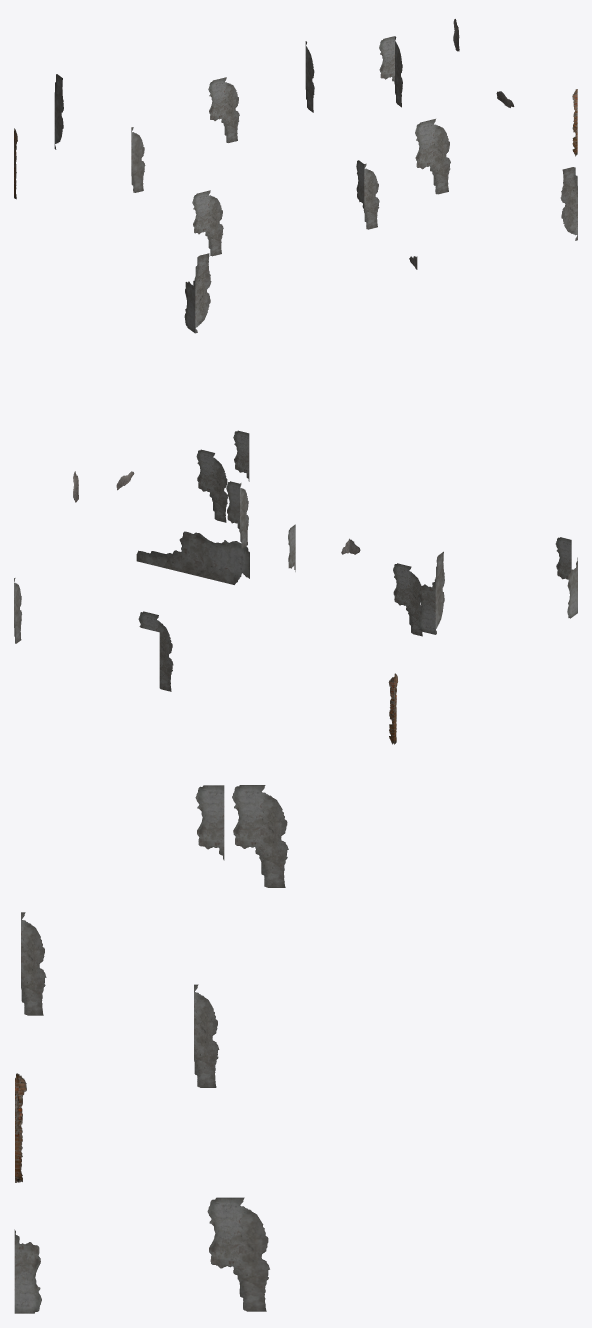
File: BuildingLarge2cDecal01_2048.glb
3 views of the same model, one above another, from view 1: azimuth 30°, elevation 25°; view 2: azimuth 150°, elevation 25°; view 3: azimuth 270°, elevation 25° (orthographic). The views are drawn at different scales.
Visible parts, largest first — view 1: xiutz_building_large_2c_deca; view 2: xiutz_building_large_2c_deca; view 3: xiutz_building_large_2c_deca.
Boxes of the visible parts, x1,y1,x2,y2 form: xiutz_building_large_2c_deca: (14,19,577,333); xiutz_building_large_2c_deca: (14,430,577,744); xiutz_building_large_2c_deca: (14,785,288,1313).
Size of the model in its own units: 24.06 by 9.65 by 19.79.
1 material, 1 textured.
